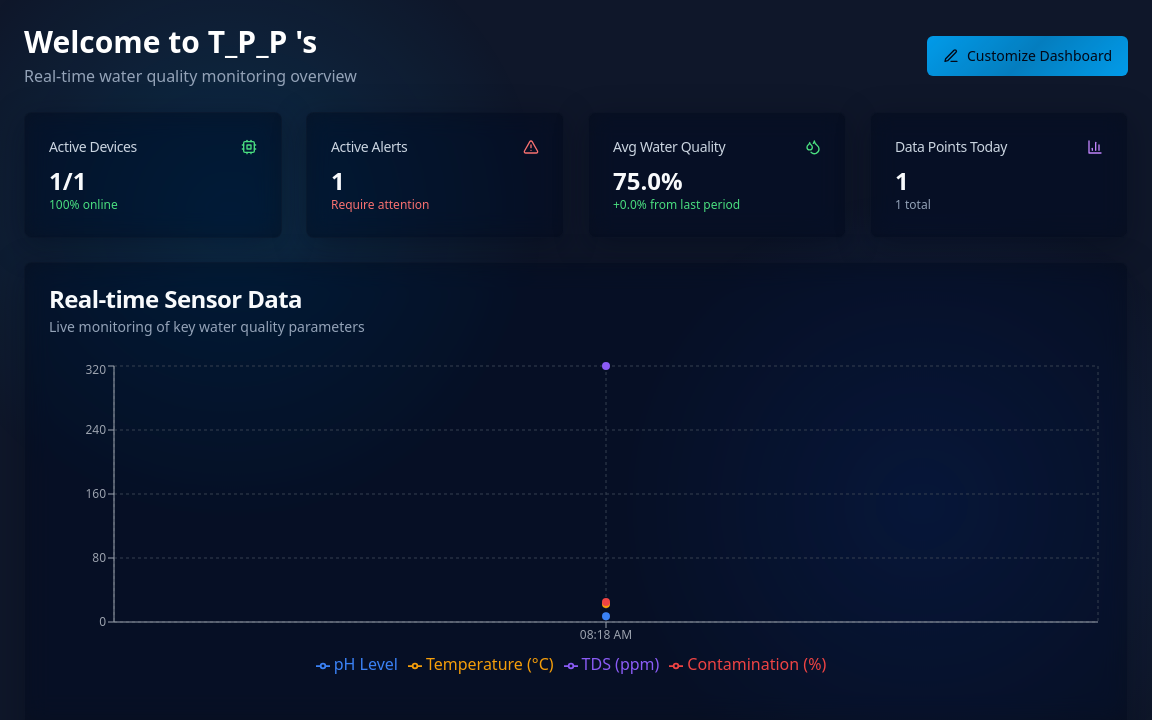
Test: Dashboard Component › opens customize dashboard dialog
Click the button "Customize Dashboard": (1028,56) [927,36,1128,76]
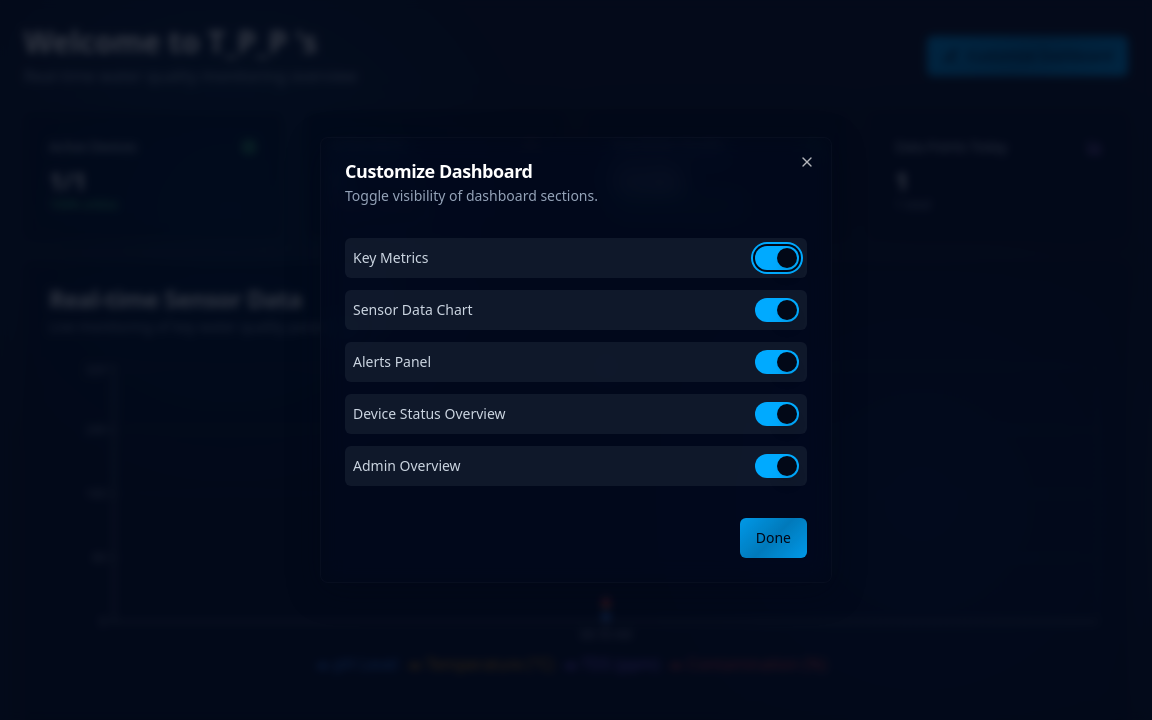
Now the text "Toggle visibility of dashboard sections." is shown, box [345,186,598,205]
